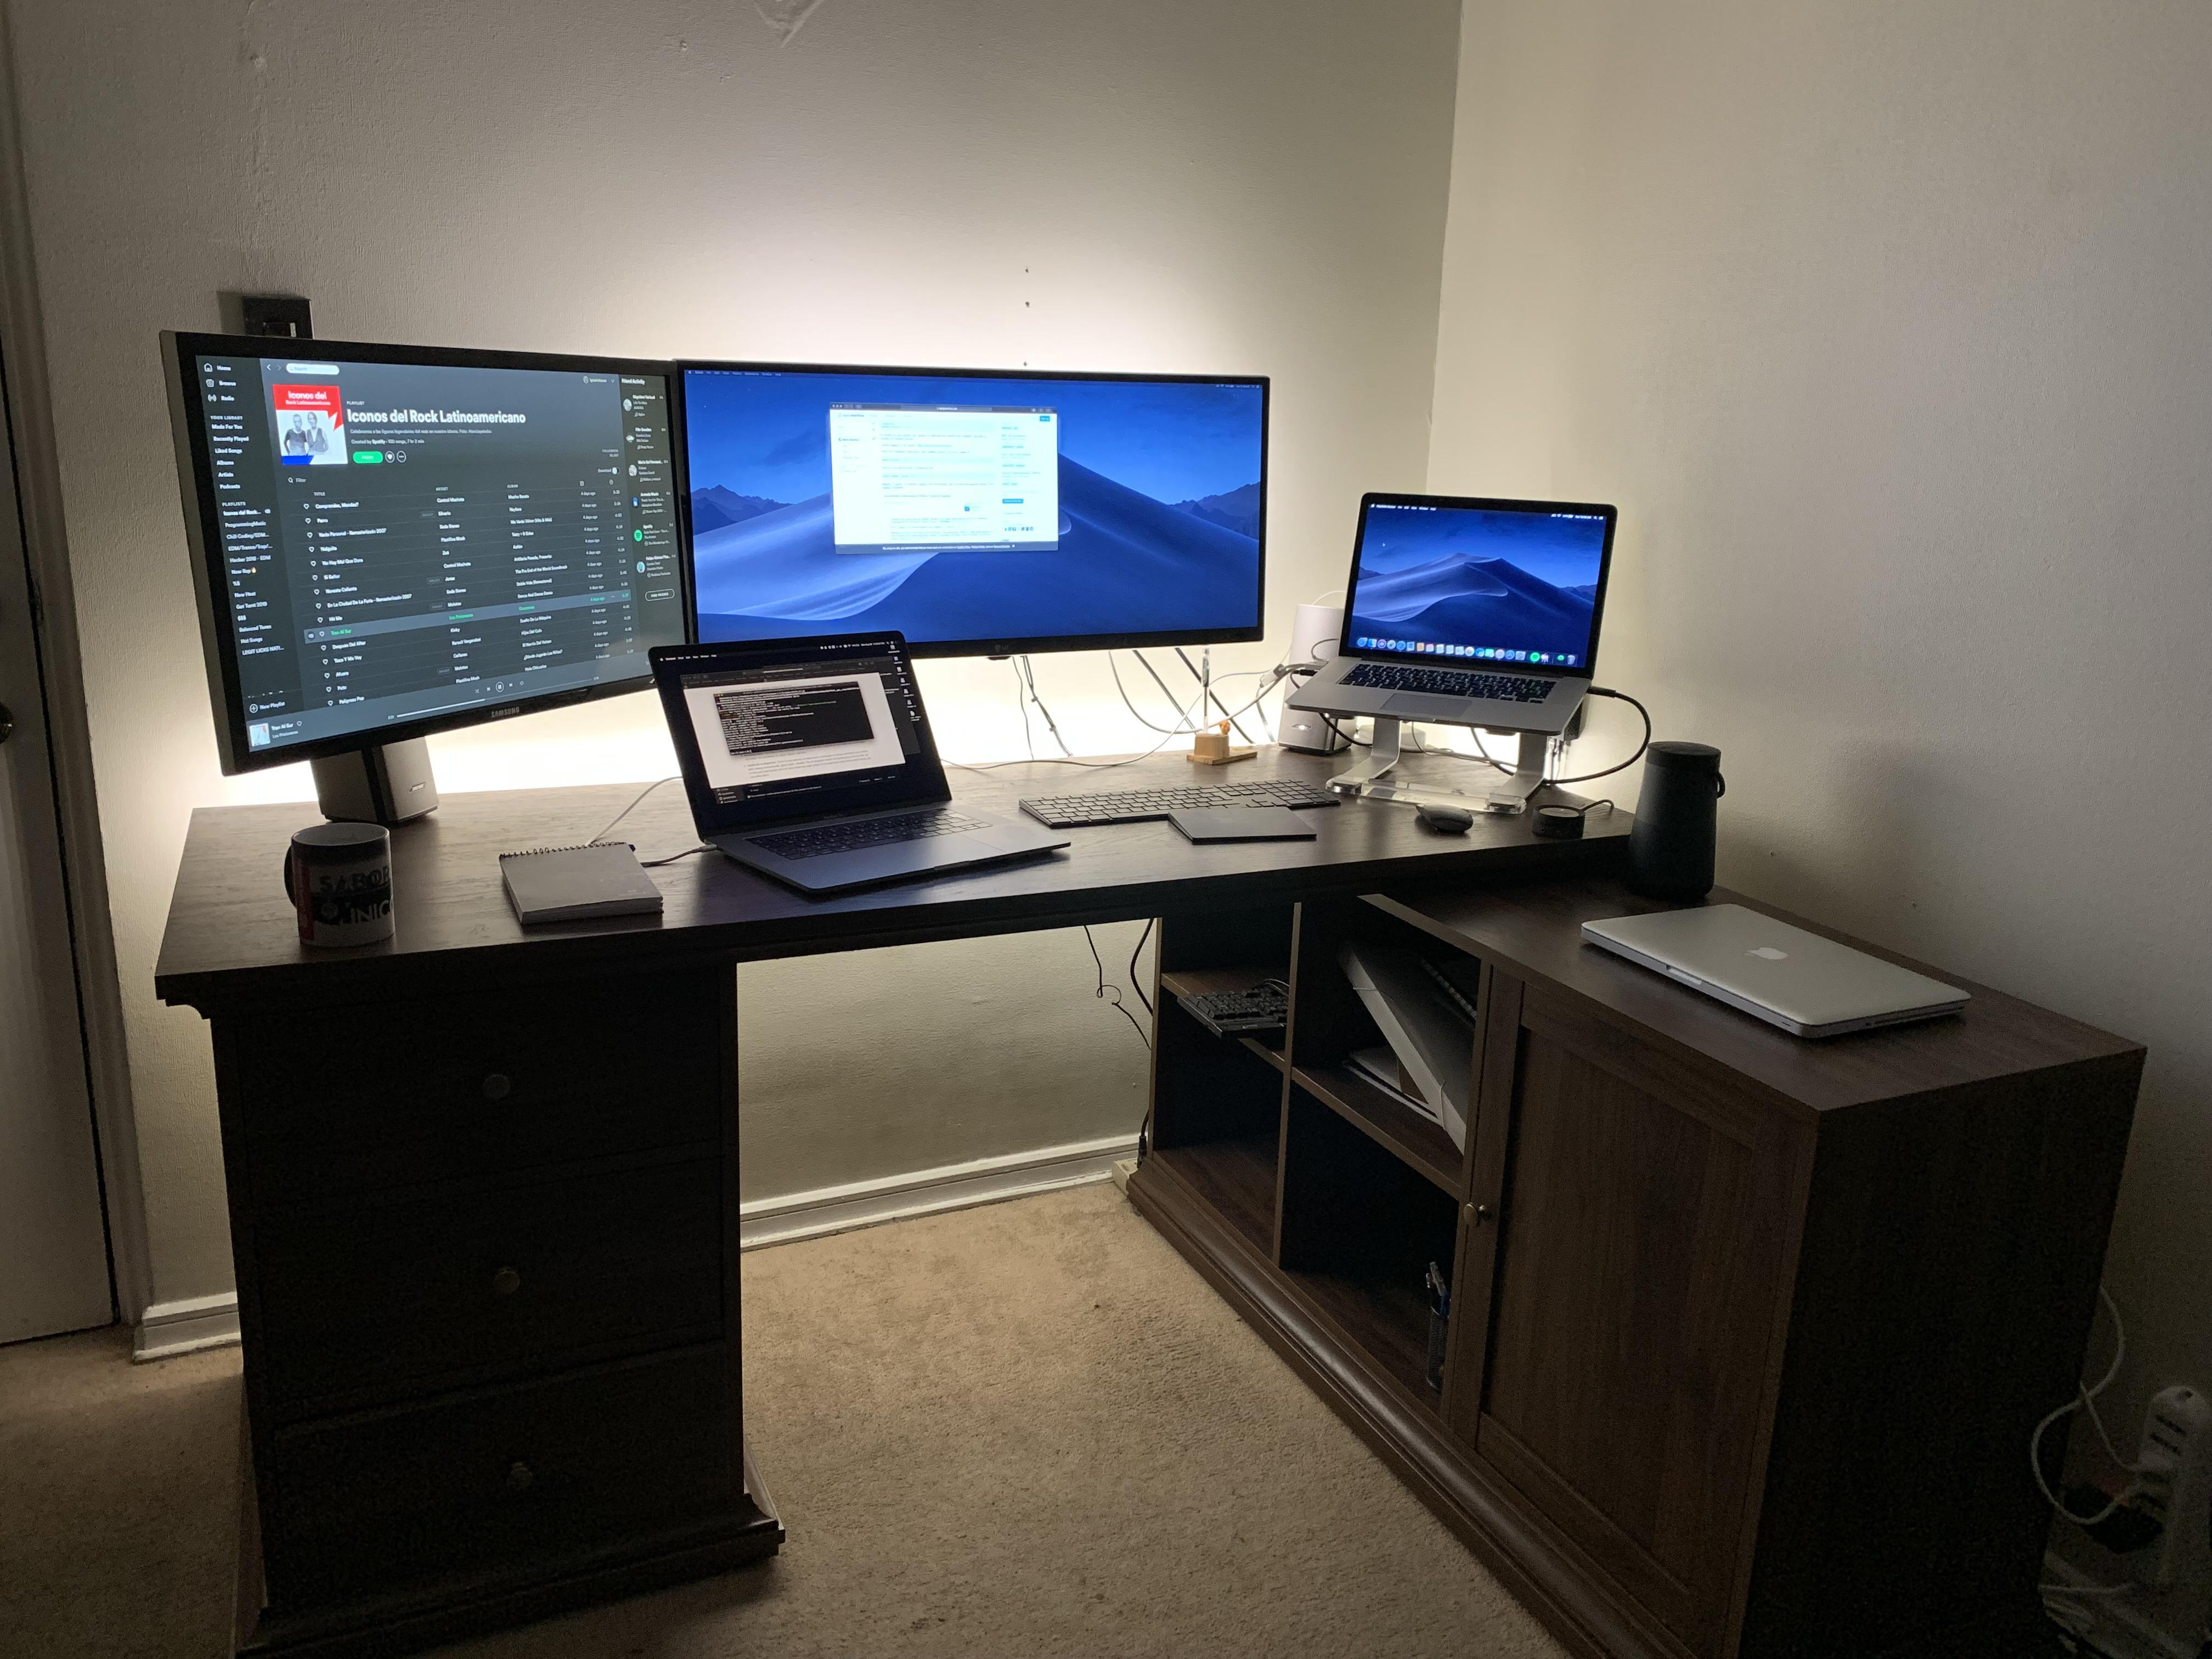Desk (Generic): (141, 734, 2148, 1645)
External Speakers (Generic): (1275, 587, 1353, 755), (324, 748, 463, 821)
IoT Devices (Raspberry, Arduino, etc): (1616, 741, 1737, 897)
Keyboard (Generic): (1012, 777, 1346, 830), (1176, 960, 1325, 1042)
Laptop (OSX): (641, 624, 1080, 908), (1291, 471, 1615, 725), (1576, 897, 1975, 1047)
Laptop Stand: (1329, 699, 1561, 812)
Monitor (Landscape): (157, 335, 685, 781), (679, 359, 1268, 659)
Monitor (Laptop): (643, 634, 968, 842)
Mouse (Generic): (1407, 791, 1489, 840)
Mouse (Magic Trackpad): (1163, 795, 1315, 850)
Mug: (272, 817, 415, 964)
Notebook: (482, 836, 672, 932)
Power Strip: (2118, 1347, 2212, 1628)
